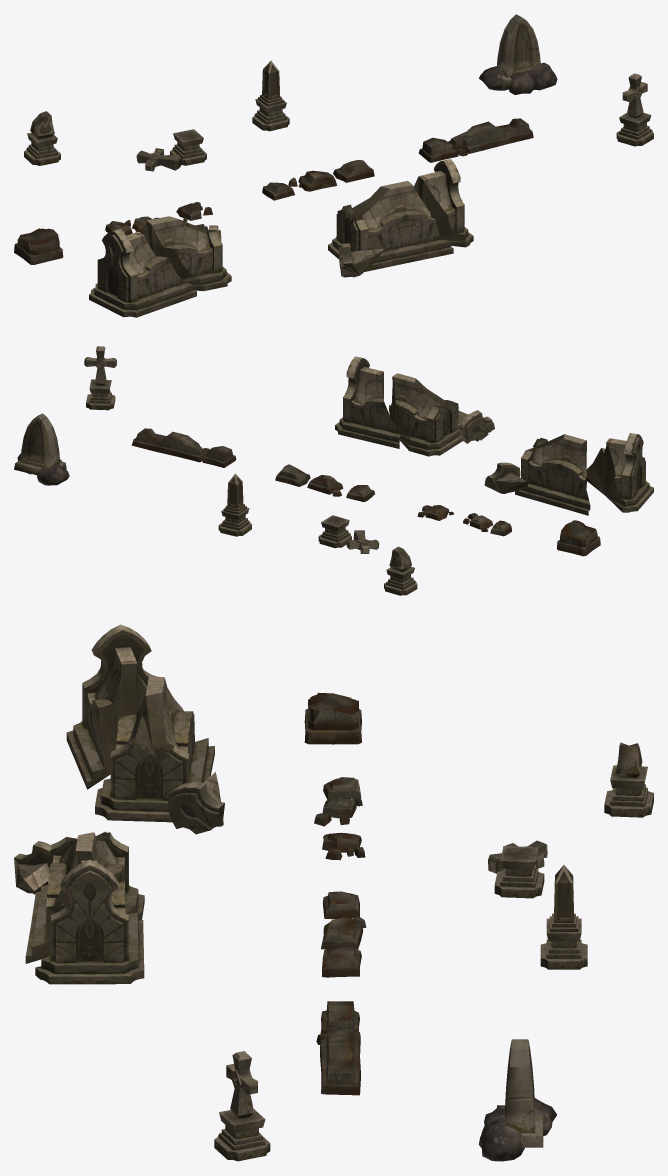
The model's file is mesh_raid3_prop4.FBX.
3 views of the same model, one above another, from view 1: azimuth 30°, elevation 25°; view 2: azimuth 150°, elevation 25°; view 3: azimuth 270°, elevation 25° (orthographic). The views are drawn at different scales.
Parts seen in each view (by area): view 1: mesh_raid3_prop4; view 2: mesh_raid3_prop4; view 3: mesh_raid3_prop4.
Part boxes in pixels (x1,y1,x2,y2): mesh_raid3_prop4: [14, 14, 653, 317]; mesh_raid3_prop4: [14, 346, 653, 595]; mesh_raid3_prop4: [14, 624, 653, 1161].
Size of the model in its own units: 22.5 by 3.08 by 13.79.
